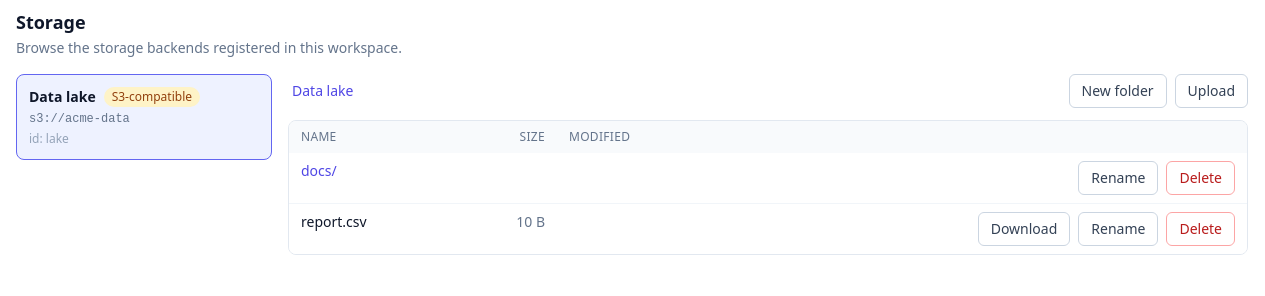
Test: deleting › cancelling sends nothing
Click the button with aria-label "Delete report.csv".
click(1201, 229)  # box [1166,212,1235,246]
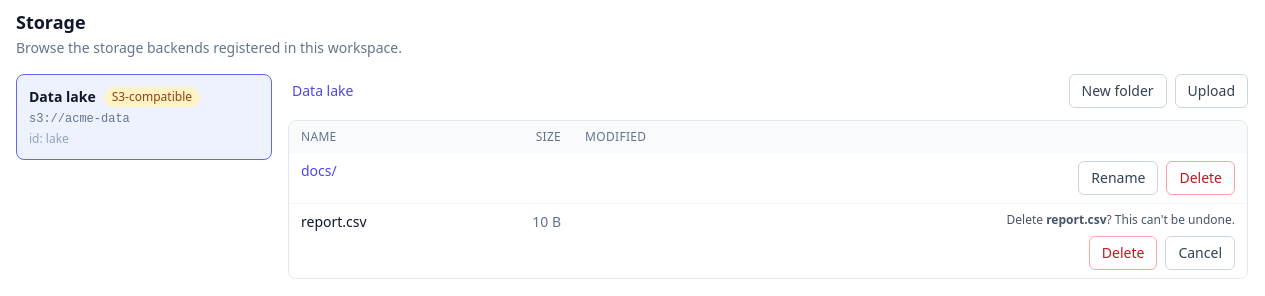
Click the button "Cancel".
click(1200, 253)  # box [1165,236,1235,270]
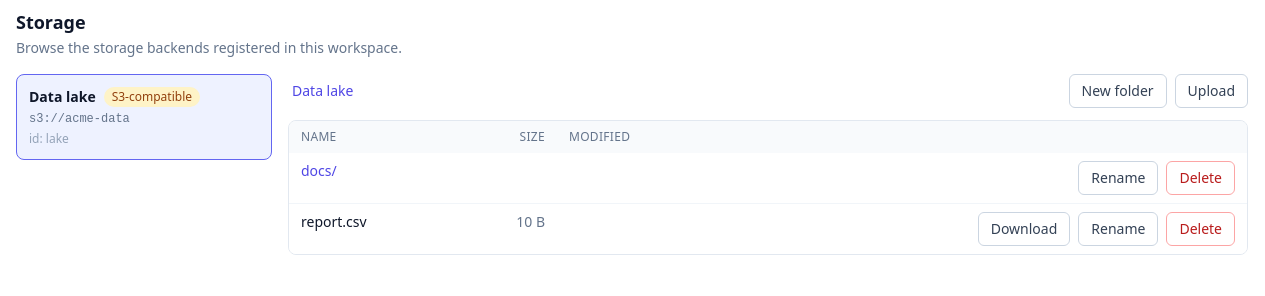
expect the button with aria-label "Delete report.csv" is shown: met, box [1166,212,1235,246]
